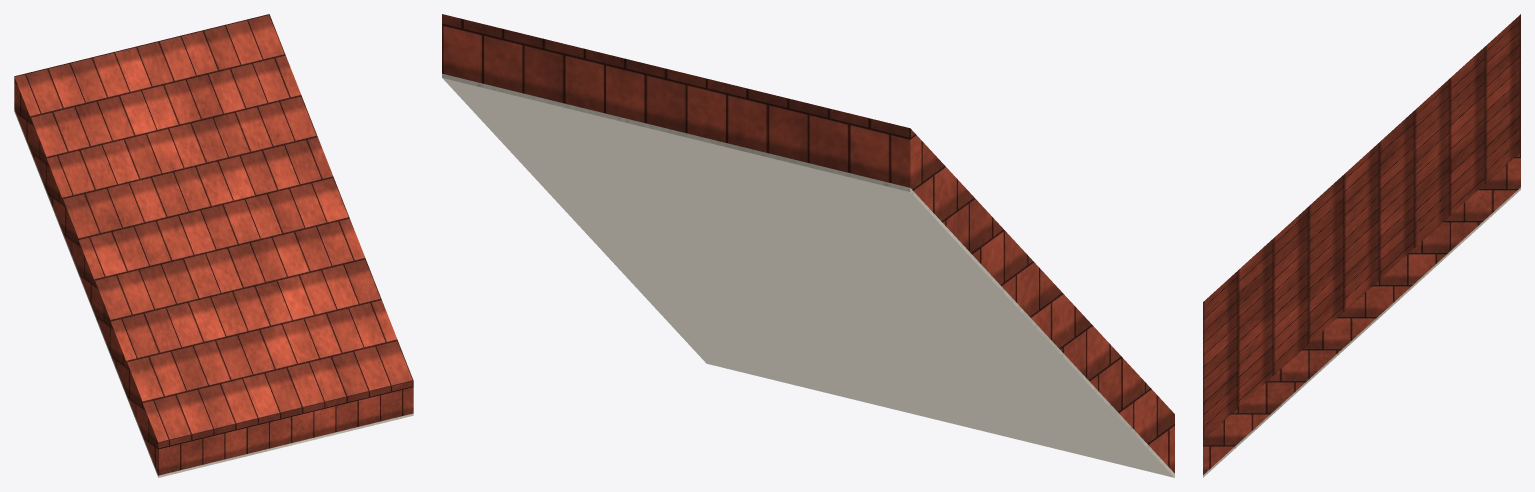
The model's file is garage_roof_house_end.glb.
3 renders of one model, left to right at view 1: azimuth 30°, elevation 25°; view 2: azimuth 150°, elevation 25°; view 3: azimuth 270°, elevation 25°, orthographic. The views are drawn at different scales.
Visible parts, largest first — view 1: garage_roof_house_end_roof_tiles, garage_roof_house_end_plaster; view 2: garage_roof_house_end_plaster, garage_roof_house_end_roof_tiles; view 3: garage_roof_house_end_roof_tiles, garage_roof_house_end_plaster.
Boxes of the visible parts, bbox=[...] form: garage_roof_house_end_roof_tiles: bbox=[14, 14, 413, 475]; garage_roof_house_end_plaster: bbox=[14, 109, 413, 477]; garage_roof_house_end_plaster: bbox=[442, 73, 1174, 477]; garage_roof_house_end_roof_tiles: bbox=[442, 14, 1174, 473]; garage_roof_house_end_roof_tiles: bbox=[1203, 14, 1520, 474]; garage_roof_house_end_plaster: bbox=[1203, 187, 1520, 477].
Size of the model in its own units: 2.3 by 2.55 by 2.25.
Materials: 2 (2 with a texture image).
